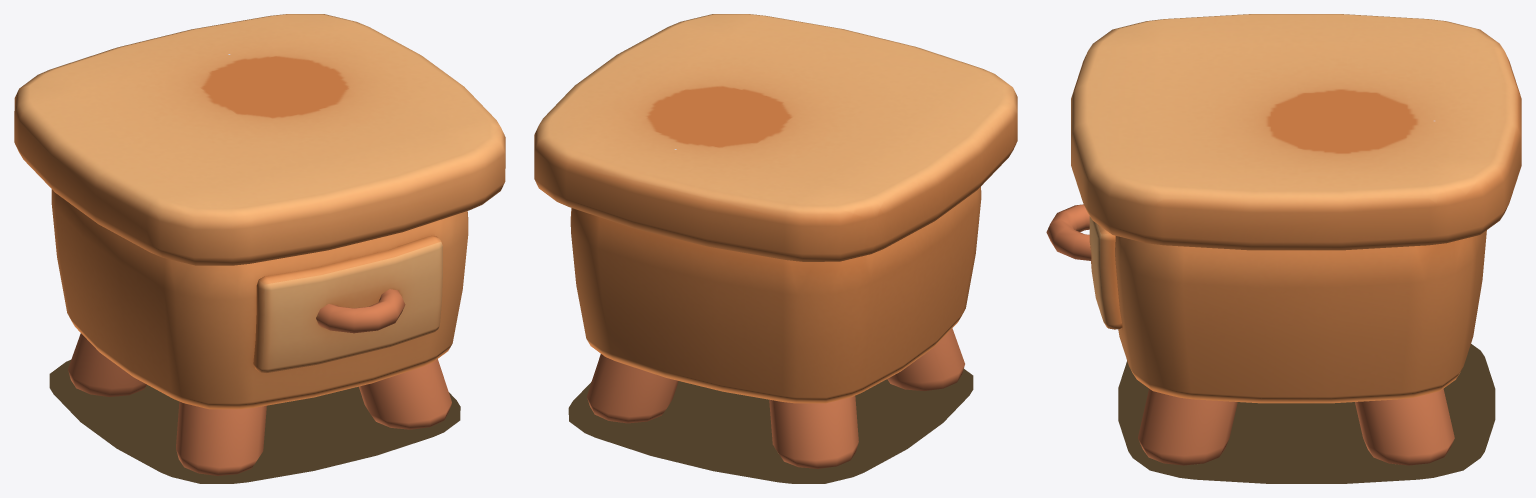
File: BesideTable01.fbx
3 renders of one model, left to right at view 1: azimuth 30°, elevation 25°; view 2: azimuth 150°, elevation 25°; view 3: azimuth 270°, elevation 25°, orthographic. The views are drawn at different scales.
Visible parts, largest first — view 1: BesideTable01; view 2: BesideTable01; view 3: BesideTable01.
Boxes of the visible parts, box(x1,y1,x2,y2) form: BesideTable01: box(14, 14, 505, 483); BesideTable01: box(534, 14, 1017, 483); BesideTable01: box(1046, 14, 1521, 483).
Bounding box in the file's own units: 92.99 × 68.66 × 98.09.
